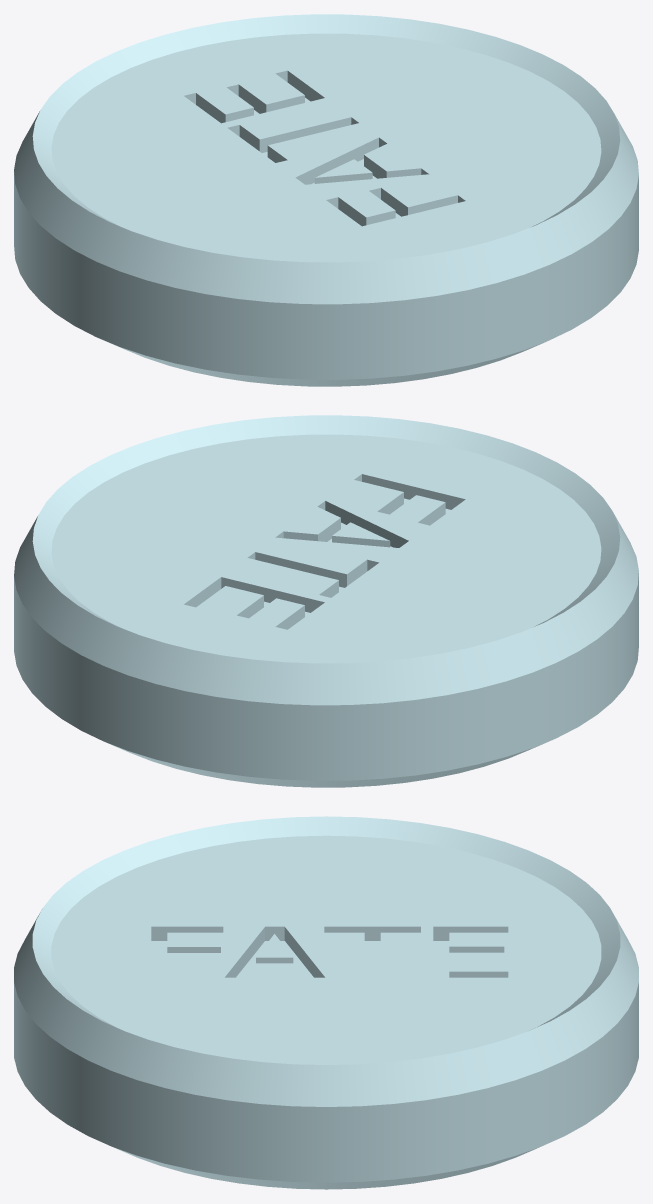
File: Fate Game Piece V1 (3).glb
The picture shows the model from 3 angles, top to bottom: view 1: azimuth 30°, elevation 25°; view 2: azimuth 150°, elevation 25°; view 3: azimuth 270°, elevation 25°; orthographic projection.
Parts seen in each view (by area): view 1: mesh0_mesh_9, mesh0_mesh_3, mesh0_mesh_6, mesh0_mesh_7, mesh0_mesh_4, mesh0_mesh_5, mesh0_mesh_8, mesh0_mesh_1, mesh0_mesh_23, mesh0_mesh_18; view 2: mesh0_mesh_9, mesh0_mesh_4, mesh0_mesh_5, mesh0_mesh_8, mesh0_mesh_3, mesh0_mesh_6, mesh0_mesh_7, mesh0_mesh_2, mesh0_mesh_41, mesh0_mesh_37, mesh0_mesh_21, mesh0_mesh_12; view 3: mesh0_mesh_9, mesh0_mesh_3, mesh0_mesh_4, mesh0_mesh_5, mesh0_mesh_6, mesh0_mesh_7, mesh0_mesh_8, mesh0_mesh_1, mesh0_mesh_2, mesh0_mesh_15, mesh0_mesh_42, mesh0_mesh_27 (+5 smaller).
Boxes of the visible parts, x1,y1,x2,y2 form: mesh0_mesh_9: (51,33,601,262); mesh0_mesh_3: (55,176,638,379); mesh0_mesh_6: (56,115,638,304); mesh0_mesh_7: (32,14,580,207); mesh0_mesh_4: (14,172,55,313); mesh0_mesh_5: (14,111,71,237); mesh0_mesh_8: (72,76,620,226); mesh0_mesh_1: (104,340,546,386); mesh0_mesh_23: (295,137,378,184); mesh0_mesh_18: (259,117,351,152); mesh0_mesh_9: (51,434,601,663); mesh0_mesh_4: (14,577,597,780); mesh0_mesh_5: (14,516,596,705); mesh0_mesh_8: (72,415,620,608); mesh0_mesh_3: (597,573,638,714); mesh0_mesh_6: (581,512,638,638); mesh0_mesh_7: (32,477,580,627); mesh0_mesh_2: (106,741,548,787); mesh0_mesh_41: (221,577,324,612); mesh0_mesh_37: (362,474,465,509); mesh0_mesh_21: (325,501,408,547); mesh0_mesh_12: (255,552,346,587); mesh0_mesh_9: (51,835,601,1064); mesh0_mesh_3: (14,983,326,1182); mesh0_mesh_4: (326,983,638,1182); mesh0_mesh_5: (326,912,638,1106); mesh0_mesh_6: (14,912,326,1106); mesh0_mesh_7: (326,816,620,1030); mesh0_mesh_8: (32,816,326,1030); mesh0_mesh_1: (113,1147,326,1189); mesh0_mesh_2: (326,1147,539,1189); mesh0_mesh_15: (324,926,420,940); mesh0_mesh_42: (433,926,508,940); mesh0_mesh_27: (151,926,223,940).
Bounding box in the file's own units: 0.0318 × 0.00741 × 0.0317.
